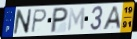3: (89, 4, 104, 33)
A: (101, 6, 122, 31)
M: (67, 7, 86, 33)
N: (12, 8, 33, 35)
P: (49, 7, 70, 35), (30, 9, 49, 34)
